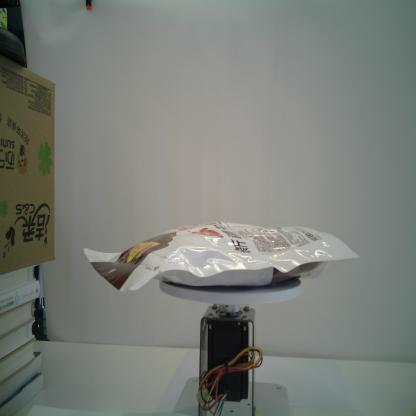Dried Food: (82, 219, 360, 297)
